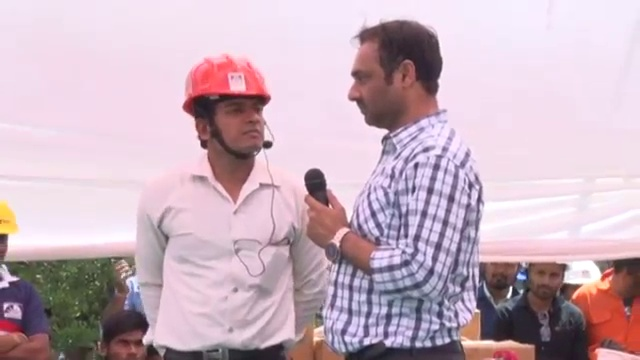helmet: (183, 51, 273, 117), (561, 260, 602, 289), (0, 198, 20, 240)
helmet_off: (344, 21, 446, 128), (103, 309, 151, 360), (524, 260, 575, 304), (482, 259, 521, 295), (606, 259, 638, 297)
helmet_on: (182, 51, 272, 171), (0, 198, 22, 284)
person: (303, 12, 489, 360), (135, 49, 329, 360), (496, 259, 590, 354), (0, 197, 53, 358), (577, 256, 639, 350), (470, 256, 531, 338)
